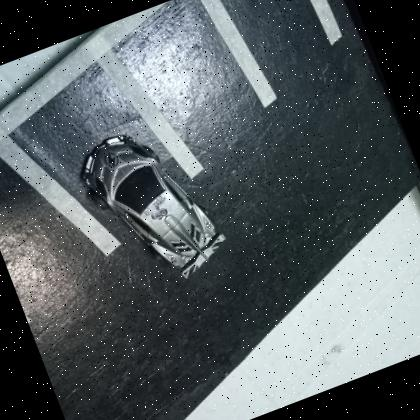Car: (83, 136, 225, 277)
